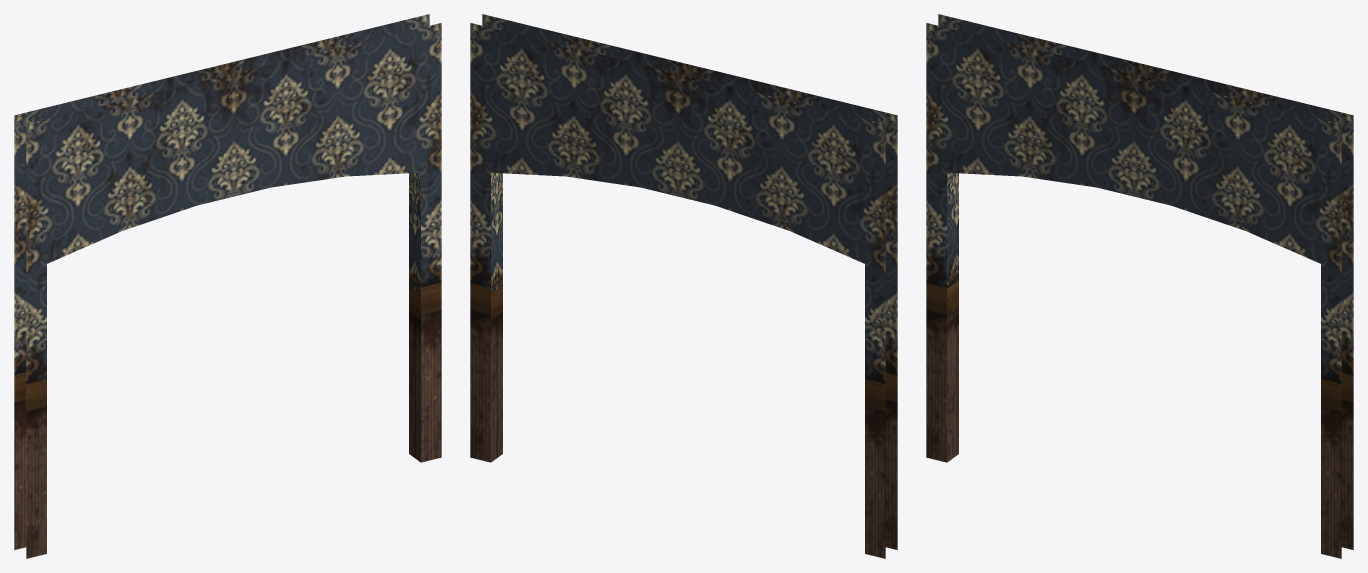
Rendered from wall_blue_archway_1.obj.
The picture shows the model from 3 angles, left to right: view 1: azimuth 30°, elevation 25°; view 2: azimuth 150°, elevation 25°; view 3: azimuth 330°, elevation 25°; orthographic projection.
Visible parts, largest first — view 1: Wall_Archway_Wide_Cap; view 2: Wall_Archway_Wide_Cap; view 3: Wall_Archway_Wide_Cap.
Boxes of the visible parts, x1,y1,x2,y2 form: Wall_Archway_Wide_Cap: (14, 14, 441, 558); Wall_Archway_Wide_Cap: (470, 14, 897, 558); Wall_Archway_Wide_Cap: (926, 14, 1353, 558).
Size of the model in its own units: 3 by 3 by 0.15.
2 materials, 2 textured.
